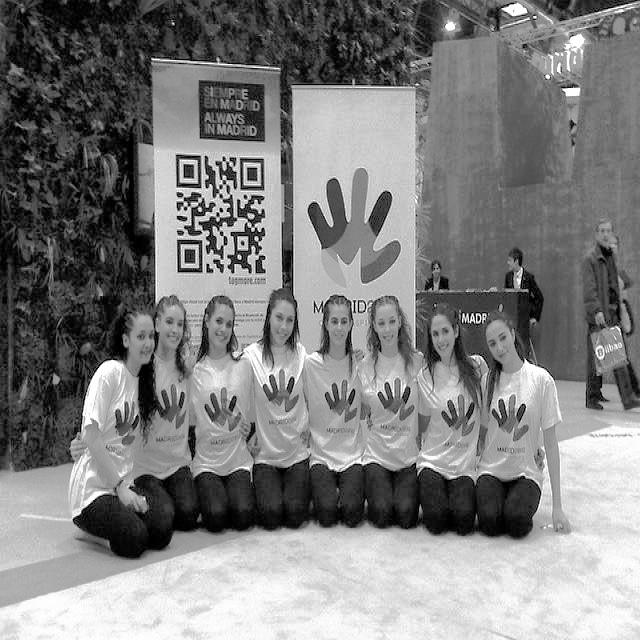qr_code: (176, 155, 265, 272)
